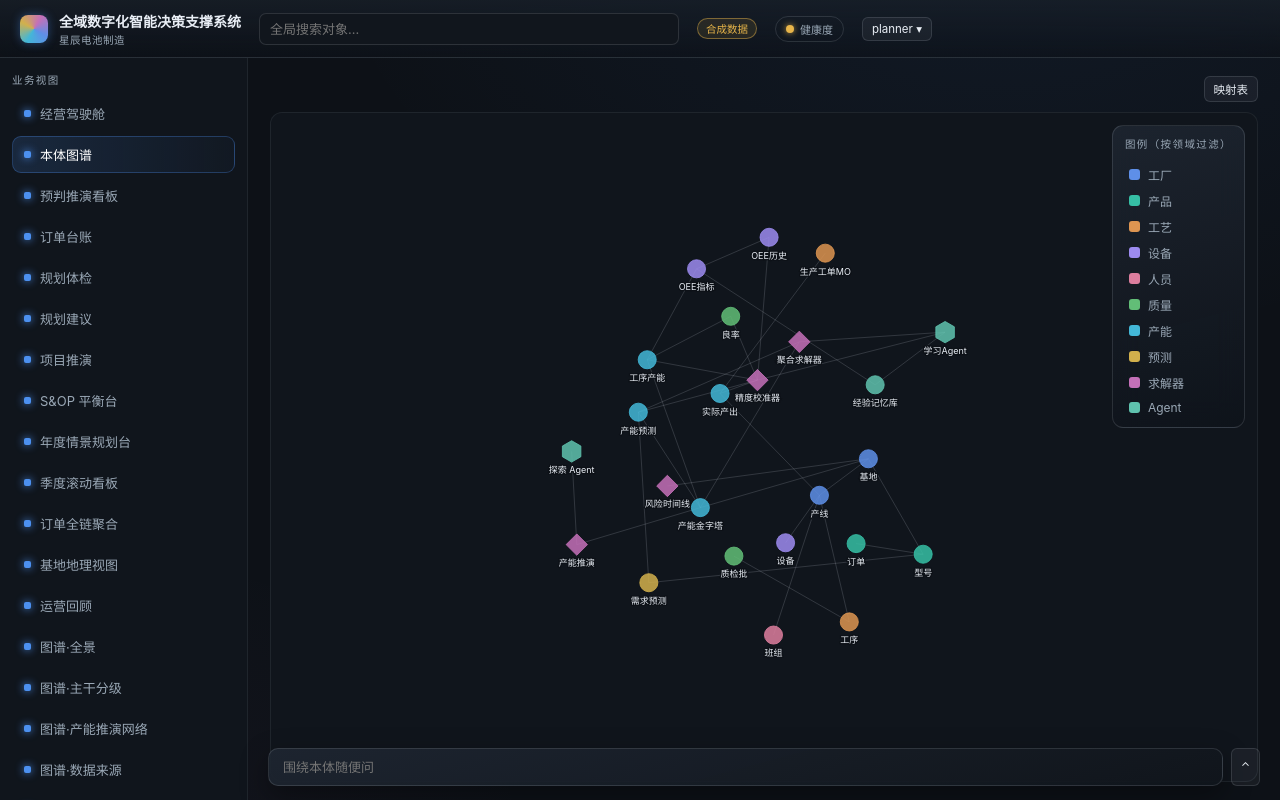
F37 · 运营态出厂配置（lived-in） › Y8 对话坞：自由探索（graph）历史问答为 AGENT 信任级样例
Expected: the element with test id "query-dock-bar" is shown, [268,748,1260,786]
Click the button named "展开对话" at (1246, 767), box [1231,748,1260,786]
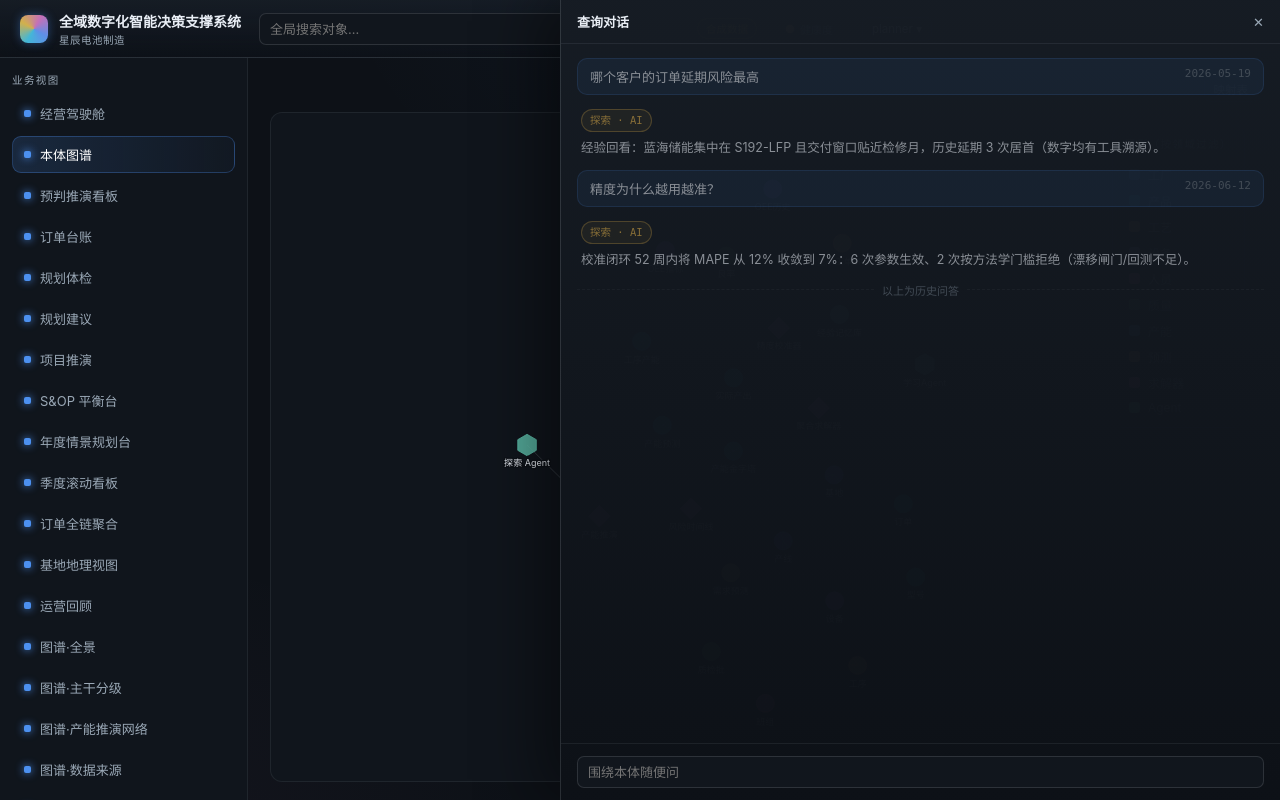
Expected: the element with test id "dock-history" is shown, [577,58,1264,298]
Expected: the text with test id "dock-history-trust-0" reads "探索 · AI", [590,114,643,126]
